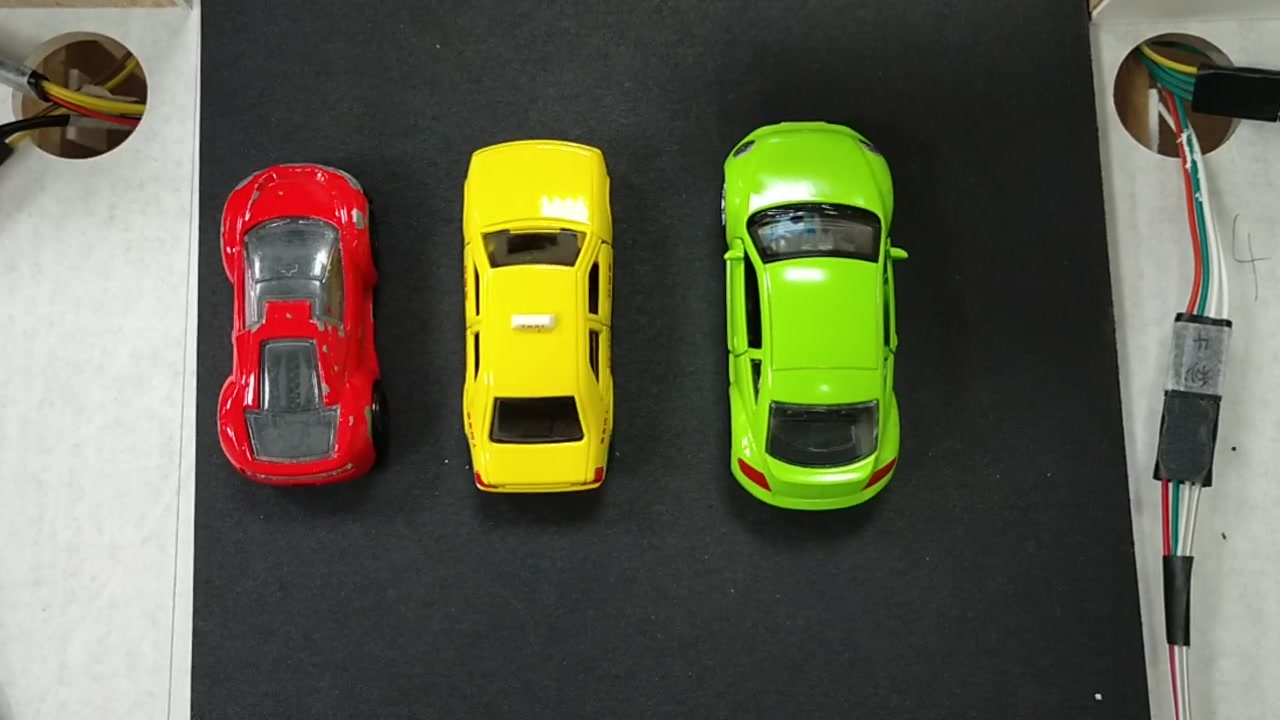car: (732, 136, 908, 510), (464, 147, 614, 493), (220, 178, 374, 487)
